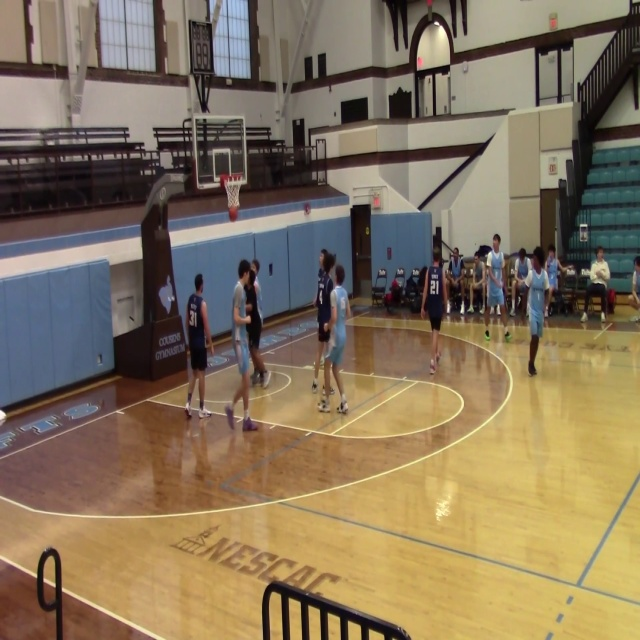Basketball: (627, 294, 640, 309), (228, 205, 238, 221), (0, 410, 6, 421), (484, 330, 490, 340)
